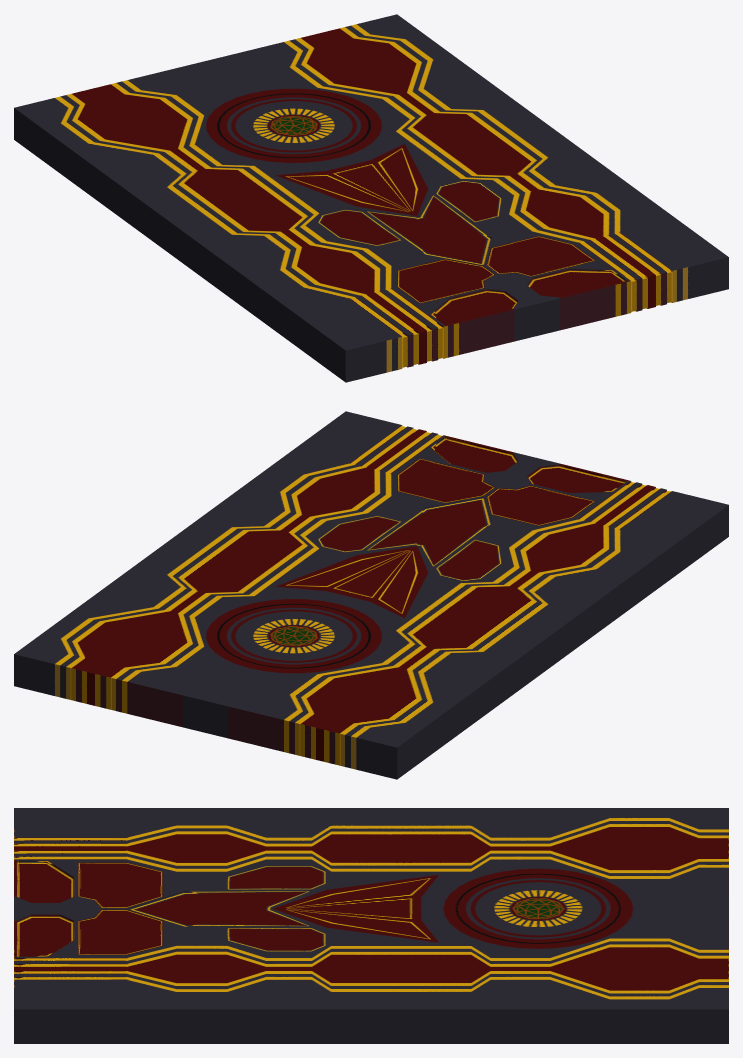
Rendered from Door_Up.fbx.
3 renders of one model, top to bottom at view 1: azimuth 30°, elevation 25°; view 2: azimuth 150°, elevation 25°; view 3: azimuth 270°, elevation 25°, orthographic. The views are drawn at different scales.
Parts seen in each view (by area): view 1: Door_Up_model; view 2: Door_Up_model; view 3: Door_Up_model.
Part boxes in pixels (left/top/right/bottom): Door_Up_model: left=14, top=14, right=728, bottom=382; Door_Up_model: left=14, top=411, right=728, bottom=779; Door_Up_model: left=14, top=808, right=728, bottom=1043.
Bounding box in the file's own units: 200 × 15.96 × 300.
